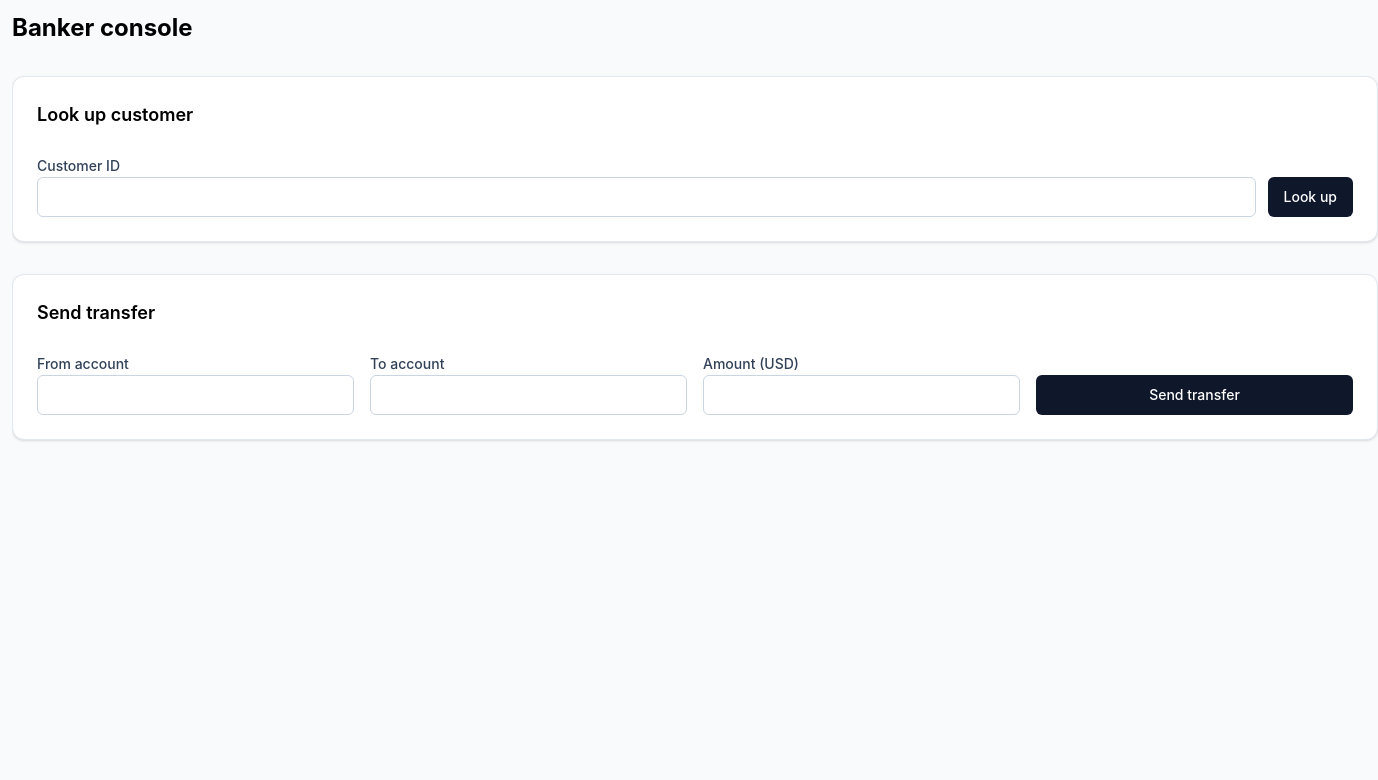
Test case: BankerConsolePage › looks up a customer by id and displays their accounts
The image size is (1378, 780).
Type "cust-1" into the field labelled "Customer ID". click: (646, 197)
box: [37,177,1256,217]
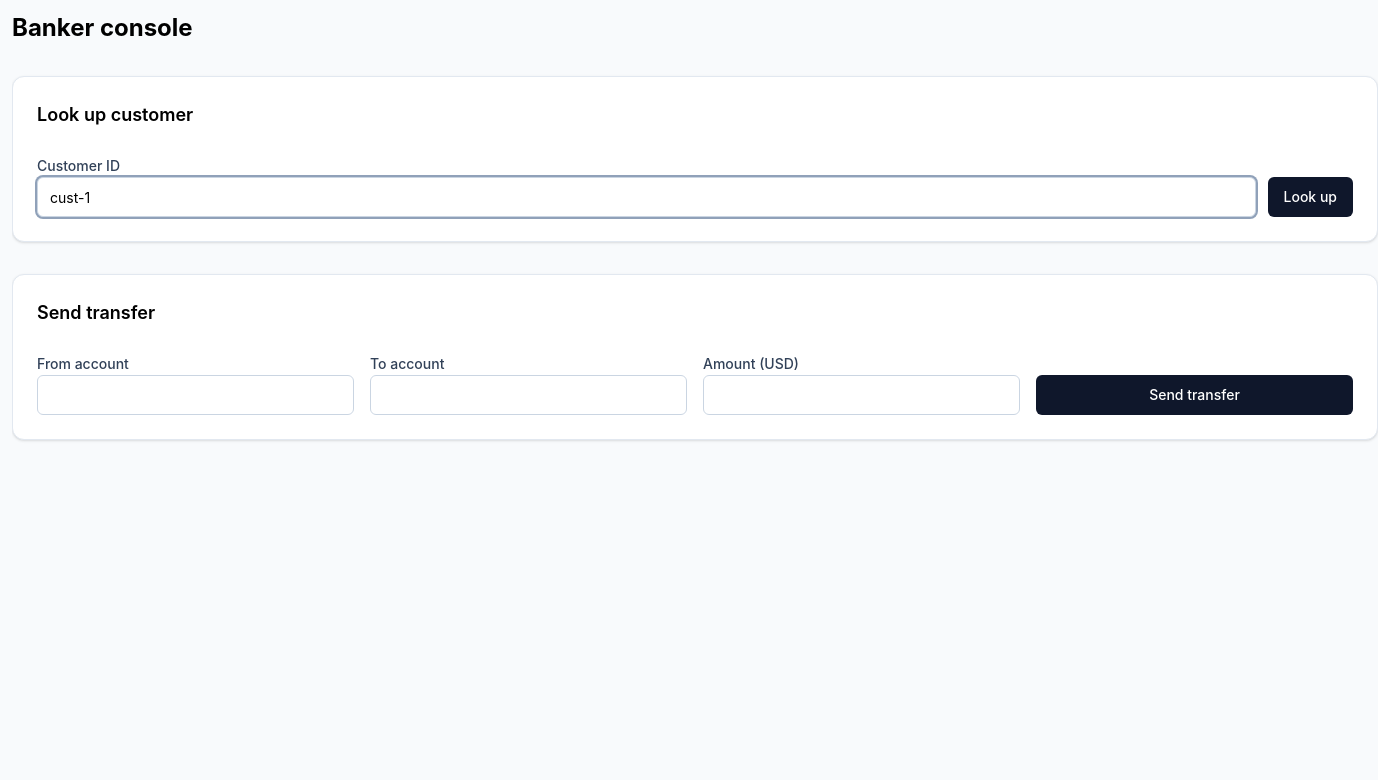
Click the button "Look up". click: (1310, 197)
box: [1268,177,1353,217]
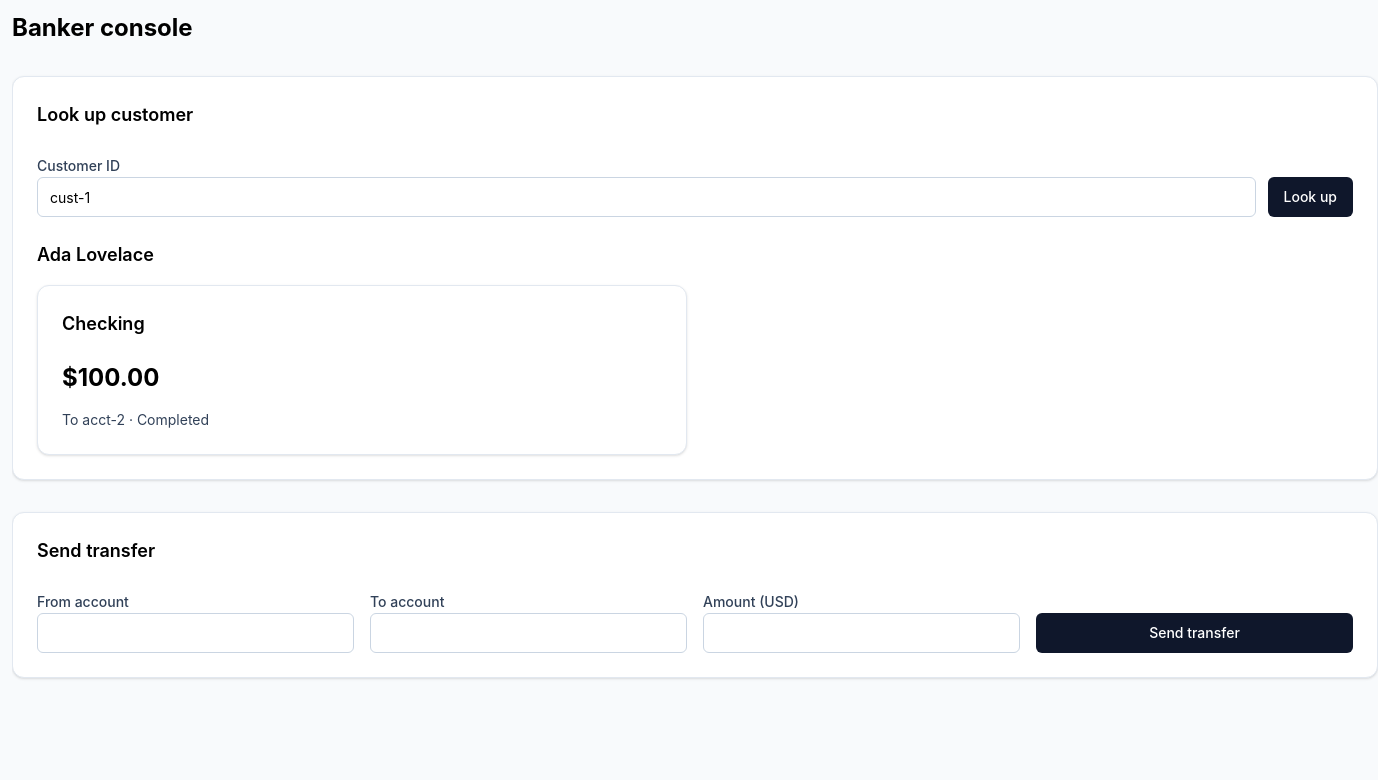
Now the heading "Ada Lovelace" is shown, box [37,244,154,265]
